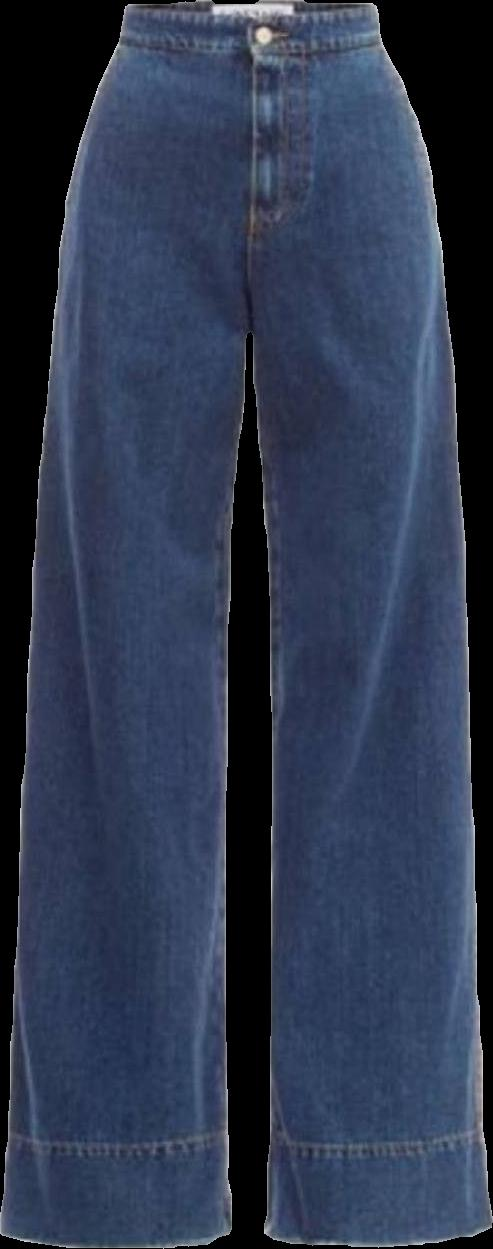Hemline: (262, 1215, 492, 1248), (0, 1219, 236, 1247)
Pantleg: (244, 0, 492, 1246), (0, 4, 245, 1248)
Waistline: (114, 34, 382, 66), (129, 0, 378, 24)
